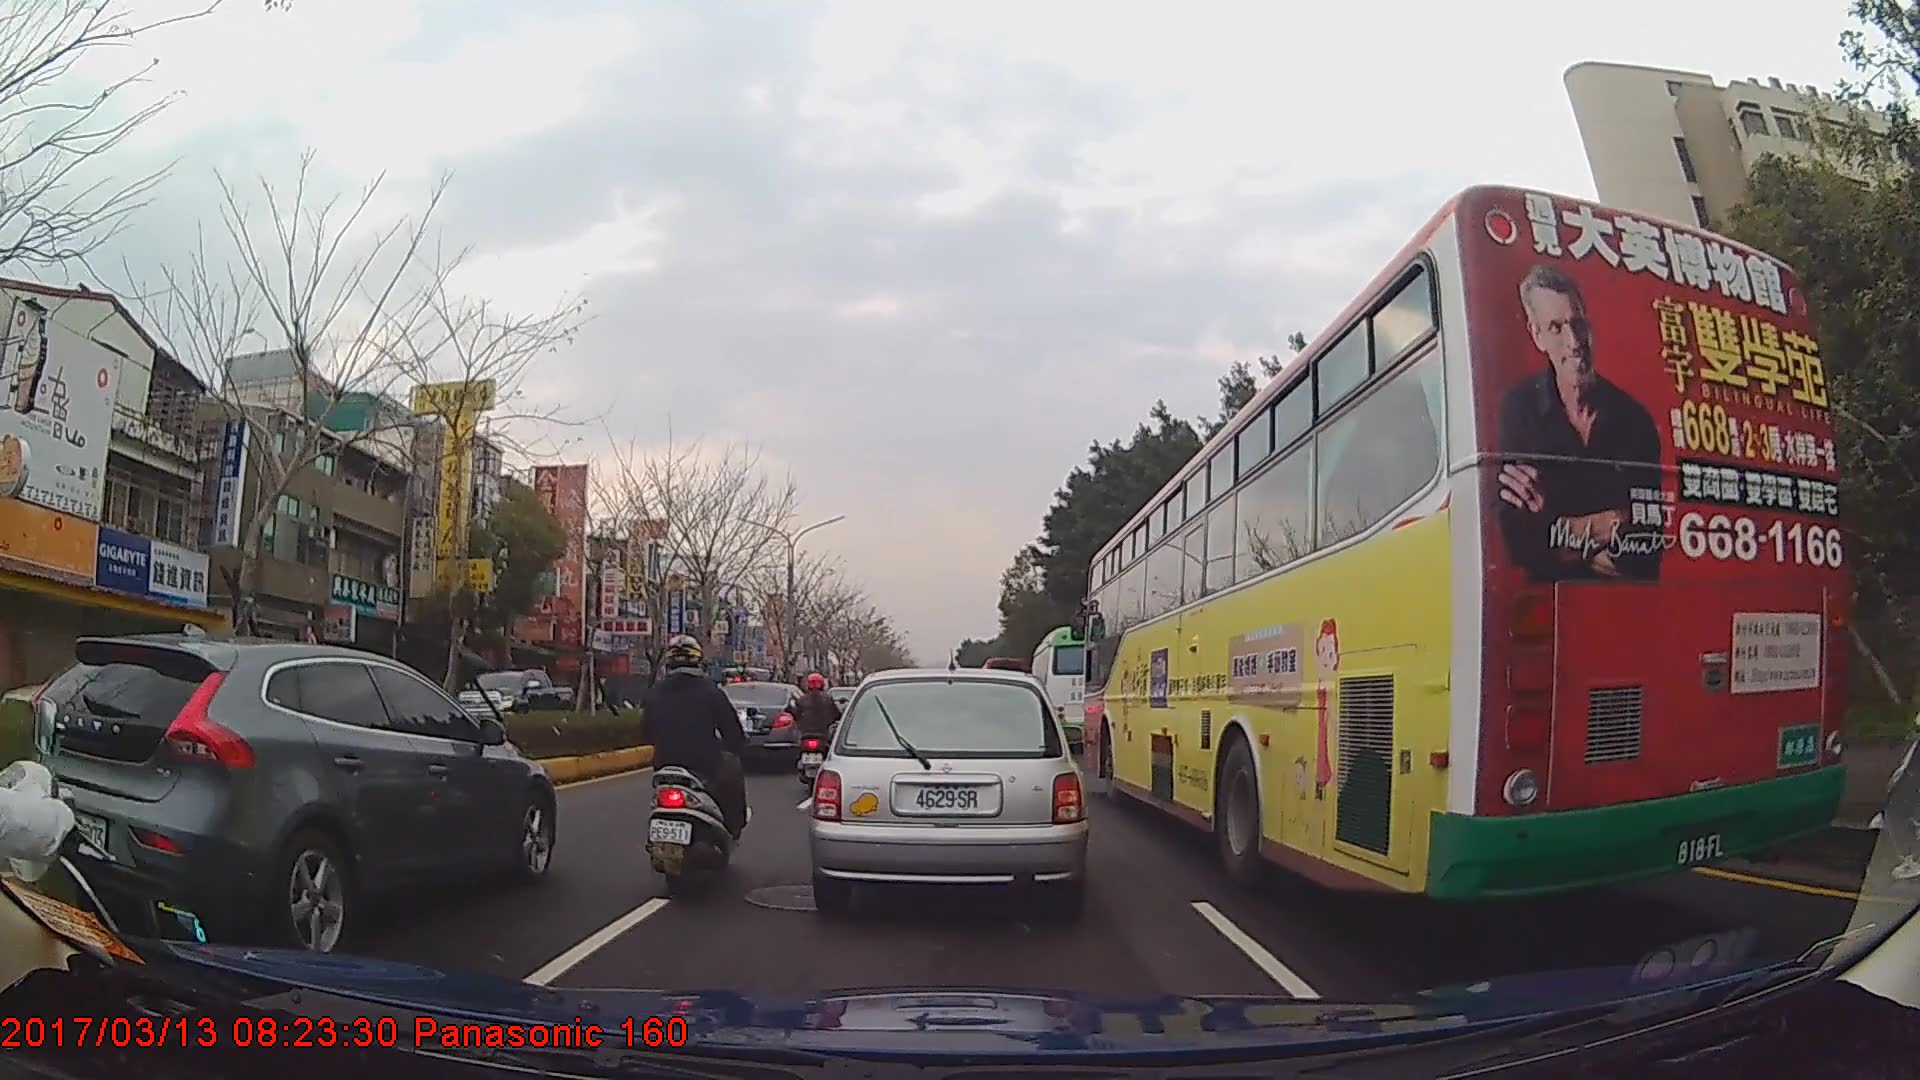rider: (635, 632, 749, 897), (1857, 588, 1920, 890), (788, 673, 845, 791)
vehicle: (1082, 179, 1854, 909), (16, 630, 557, 944), (810, 667, 1086, 919), (1027, 626, 1116, 749), (703, 680, 815, 771), (453, 666, 573, 733)
